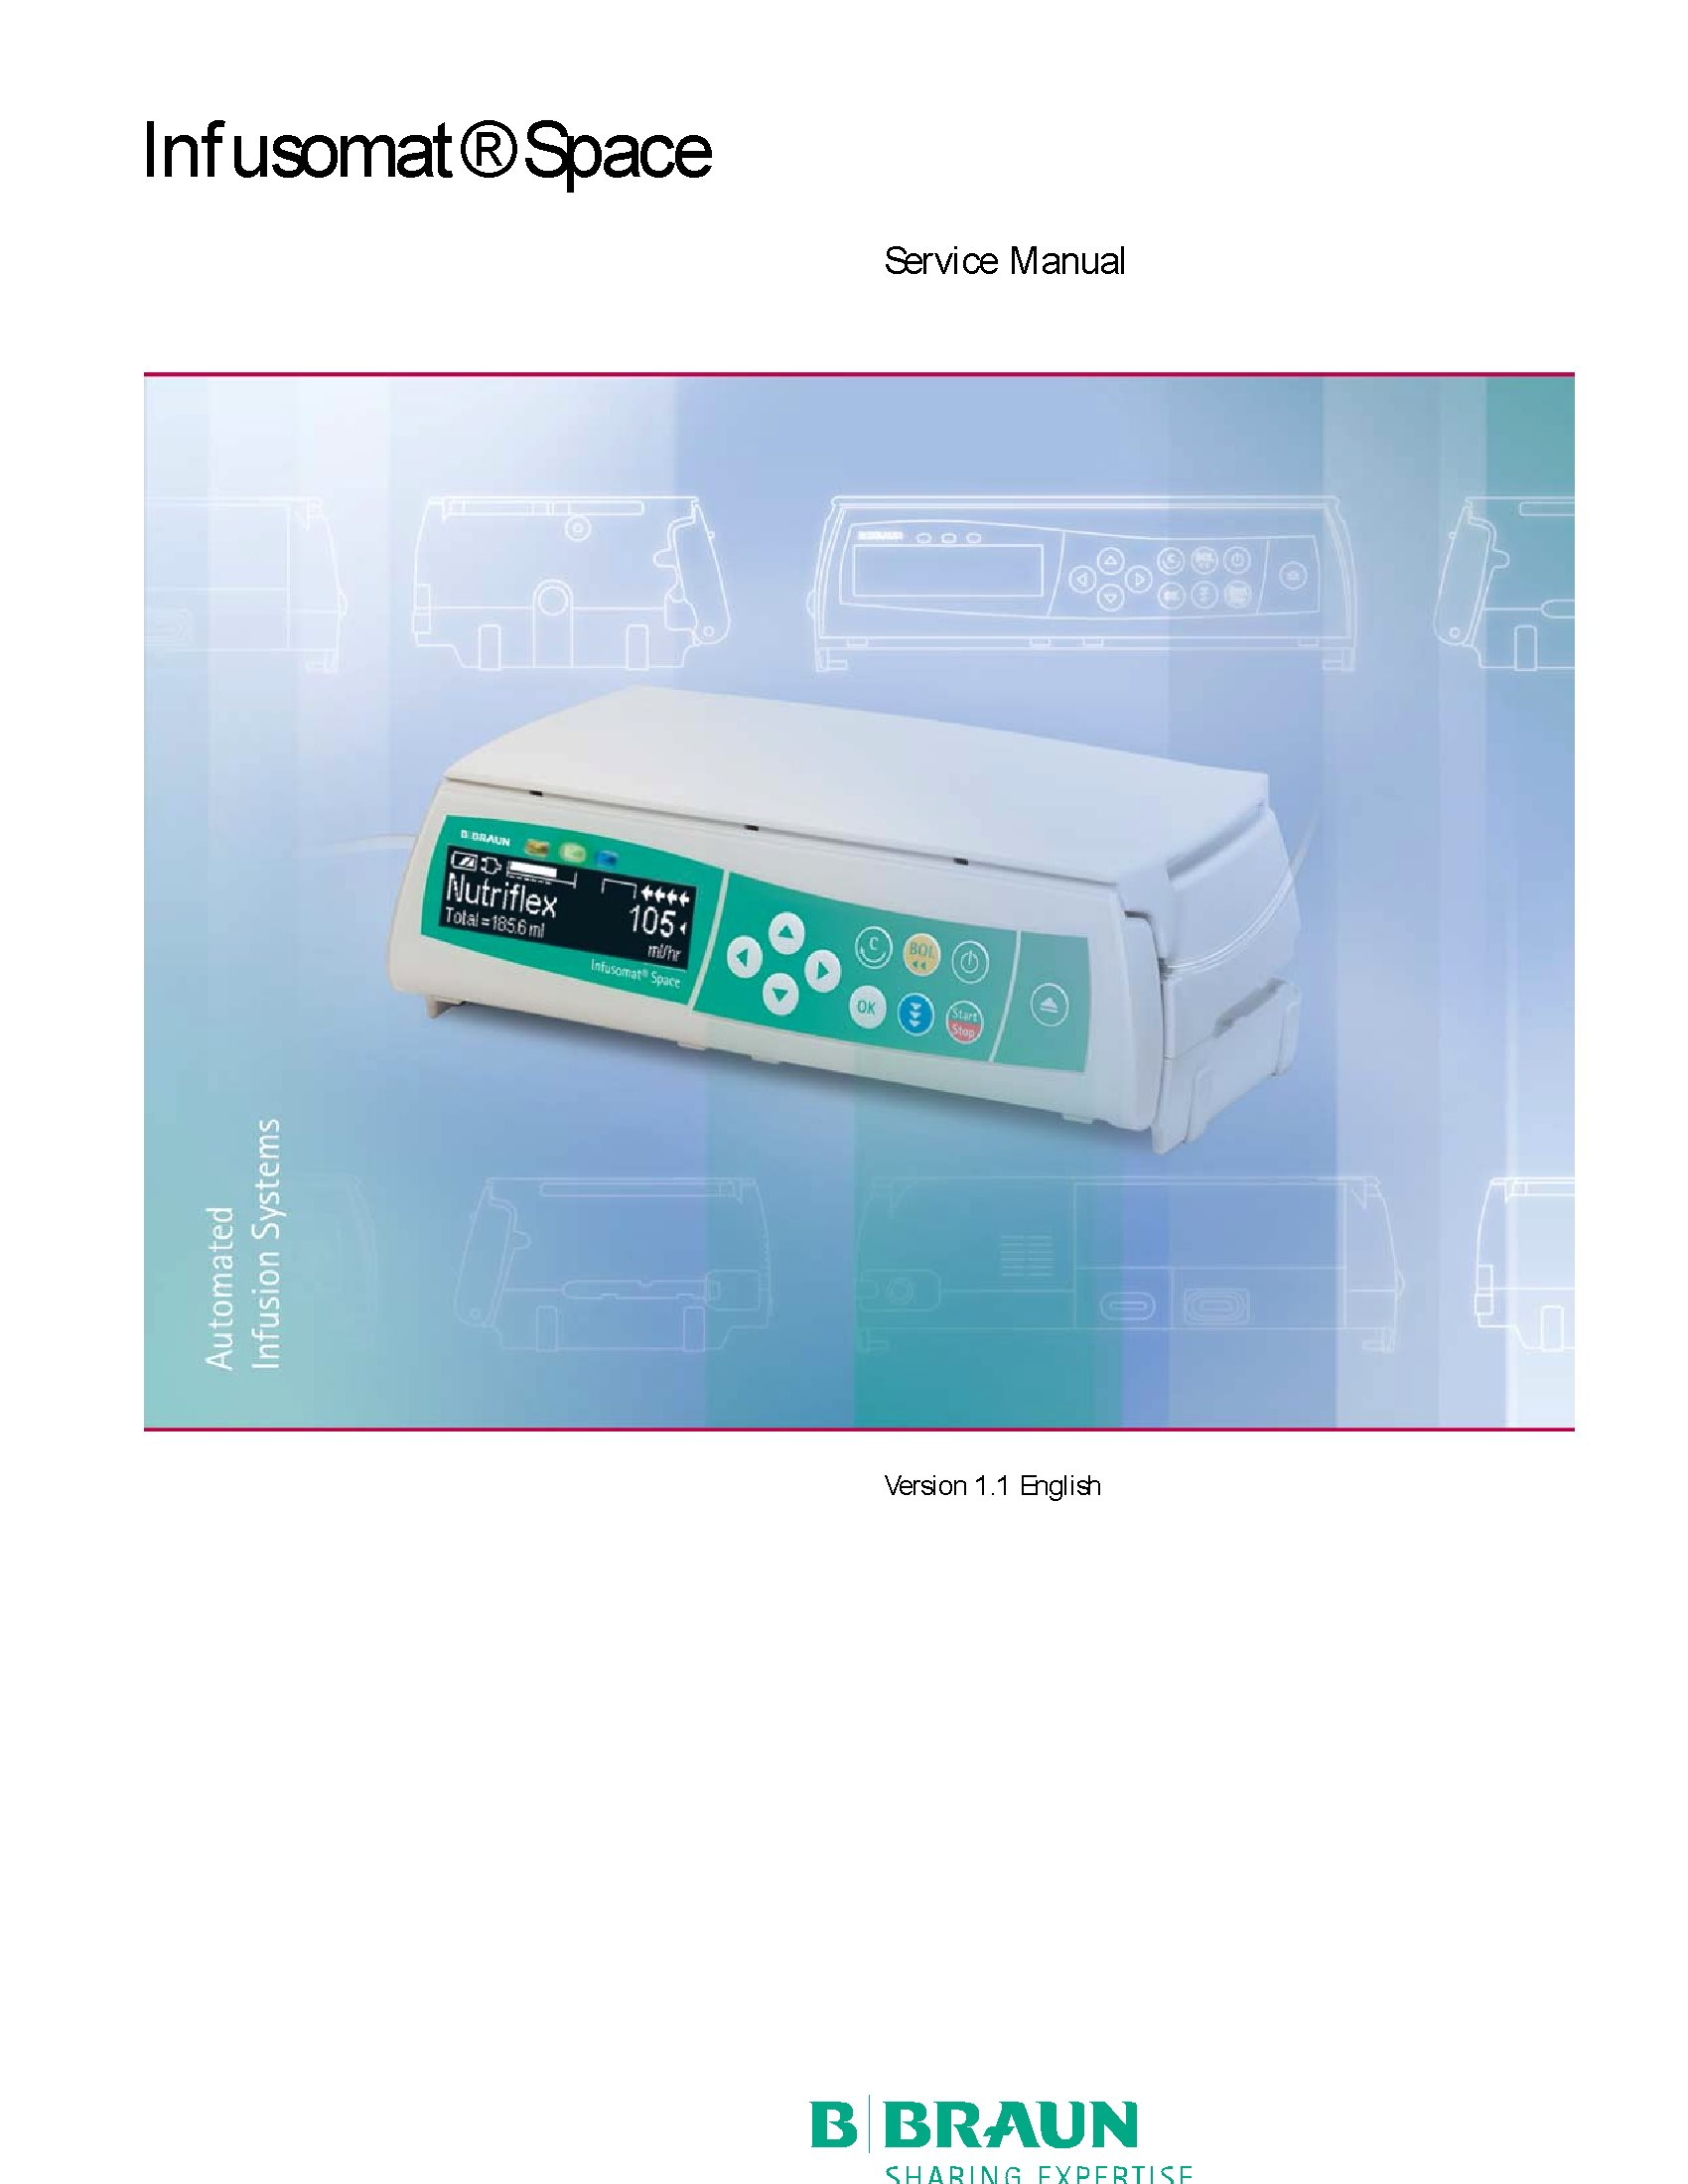BBraun Infusomat Space: (369, 659, 1330, 1166)
